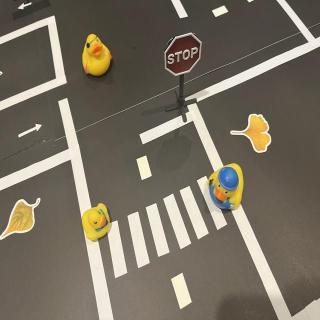duck_regular: (81, 202, 113, 242)
duck_specialty: (206, 164, 246, 214), (81, 34, 115, 79)
road_crosswalk: (107, 175, 231, 283)
road_oneway: (19, 124, 45, 142), (18, 1, 35, 13)
sign_stop: (165, 34, 203, 76)
